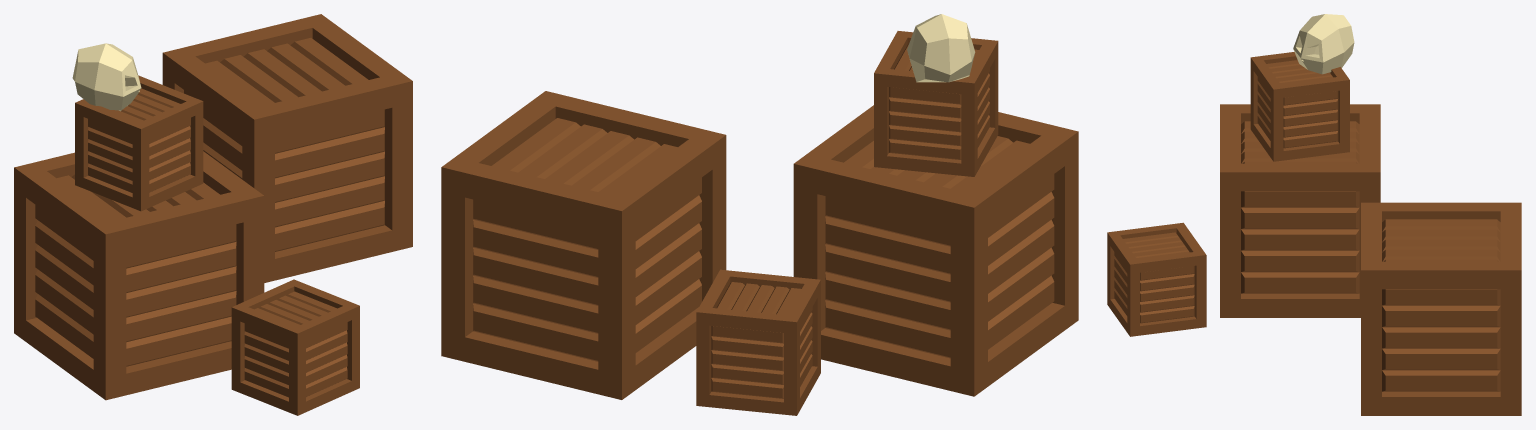
The model's file is decor7.fbx.
3 renders of one model, left to right at view 1: azimuth 30°, elevation 25°; view 2: azimuth 150°, elevation 25°; view 3: azimuth 270°, elevation 25°, orthographic. The views are drawn at different scales.
Parts seen in each view (by area): view 1: wooden box.040, wooden box.038, wooden box.030, wooden box.041, wooden box.042; view 2: wooden box.038, wooden box.040, wooden box.039, wooden box.041, wooden box.042; view 3: wooden box.038, wooden box.040, wooden box.030, wooden box.041, wooden box.042.
Boxes of the visible parts, x1,y1,x2,y2 form: wooden box.040: (14,151,264,400); wooden box.038: (162,14,412,282); wooden box.030: (231,279,359,415); wooden box.041: (75,75,203,211); wooden box.042: (72,43,141,111); wooden box.038: (441,91,726,399); wooden box.040: (793,105,1078,396); wooden box.039: (696,269,820,415); wooden box.041: (874,31,998,176); wooden box.042: (907,14,975,82); wooden box.038: (1361,202,1521,415); wooden box.040: (1220,104,1380,317); wooden box.030: (1107,222,1206,336); wooden box.041: (1250,52,1349,161); wooden box.042: (1293,14,1354,74).
Size of the model in its own units: 831 by 611 by 877.
